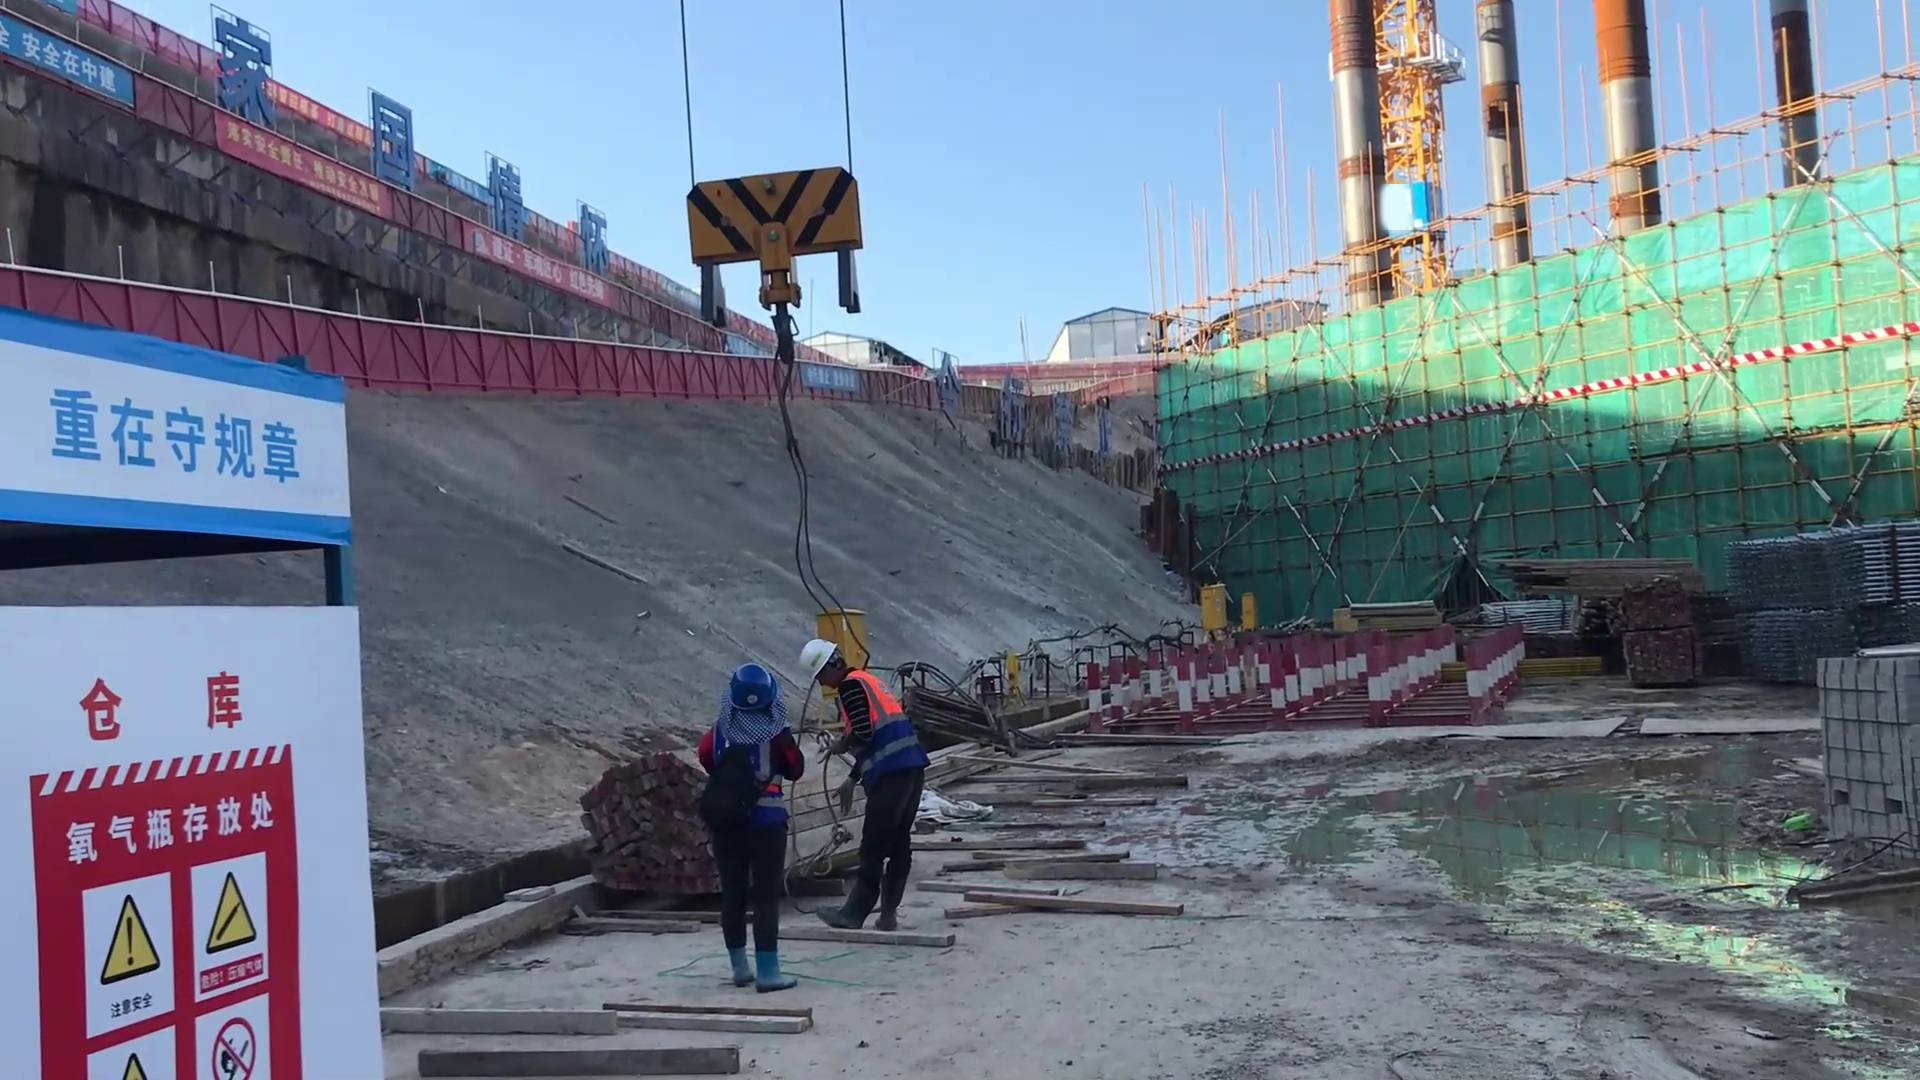brick: (1806, 631, 1920, 840)
ebox: (821, 611, 869, 662), (1202, 585, 1229, 626), (1239, 587, 1262, 630)
fence: (317, 309, 593, 401), (591, 346, 785, 409)
helmet: (724, 664, 781, 738), (793, 633, 835, 689)
hook: (697, 170, 860, 316)
person: (784, 632, 917, 937), (685, 658, 801, 998)
scaffold: (1730, 509, 1920, 620)
slogan: (32, 708, 310, 1080), (34, 387, 330, 524), (200, 115, 392, 255), (1, 27, 167, 144)
vest: (833, 678, 904, 750)
wood: (556, 737, 695, 924), (1486, 546, 1718, 611)
